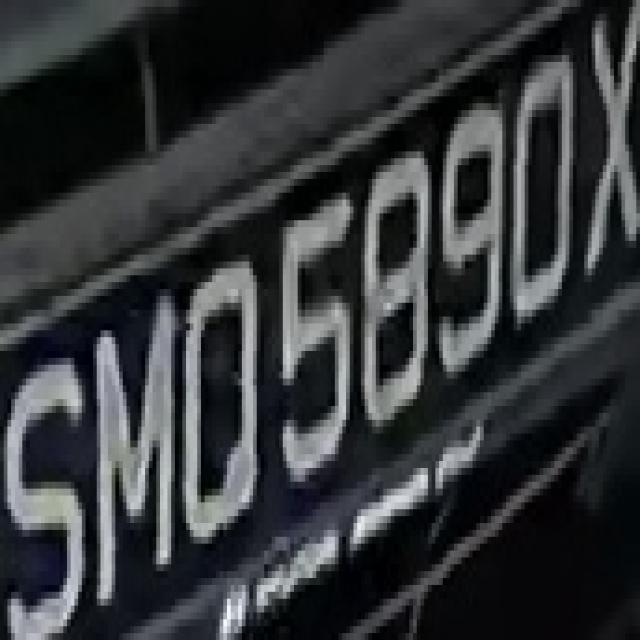0: (506, 41, 577, 344)
5: (268, 186, 357, 502)
8: (350, 144, 439, 448)
9: (436, 103, 514, 420)
M: (82, 296, 182, 599)
Q: (182, 268, 260, 572)
S: (0, 4, 1, 7)
X: (577, 0, 636, 296)
